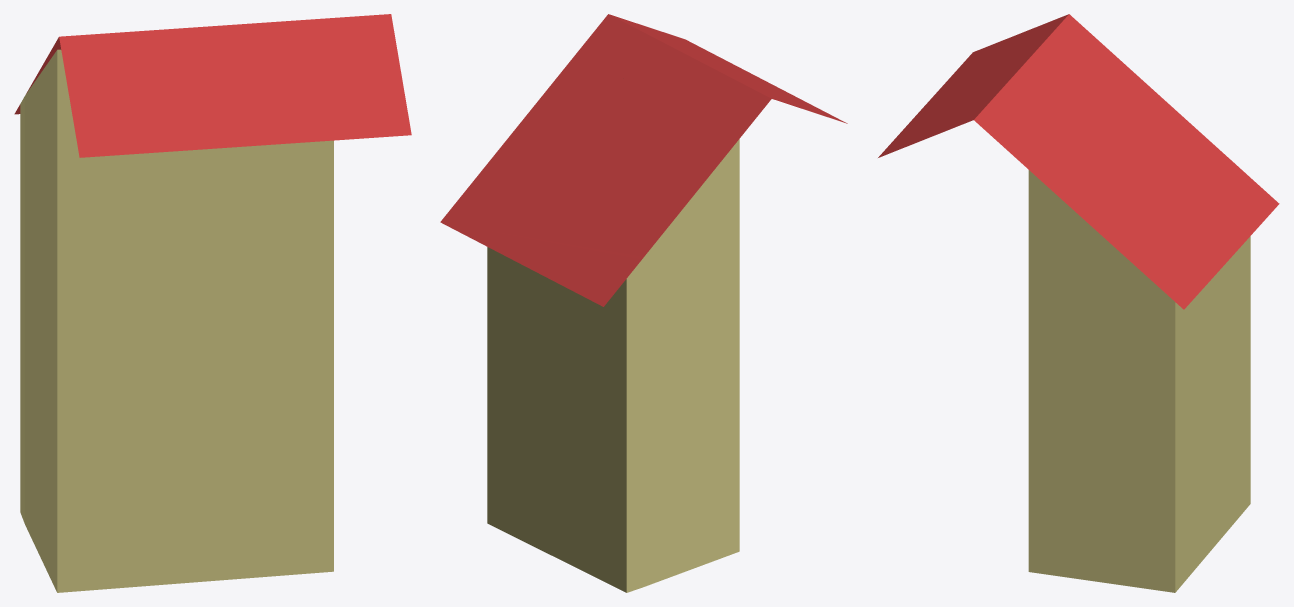
3 renders of one model, left to right at view 1: azimuth 30°, elevation 25°; view 2: azimuth 150°, elevation 25°; view 3: azimuth 270°, elevation 25°, orthographic. The views are drawn at different scales.
Bounding box in the file's own units: 7.08 × 7.74 × 9.78.
